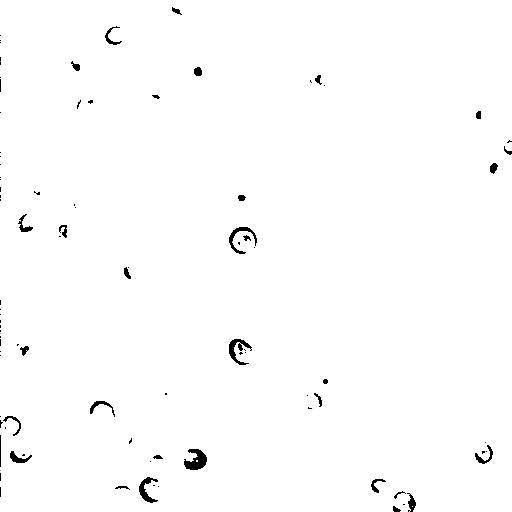micro-algae: (359, 3, 447, 89), (342, 436, 417, 510), (45, 91, 117, 165), (39, 113, 99, 175), (29, 333, 86, 395), (12, 89, 69, 147), (192, 384, 249, 442), (43, 415, 100, 469), (464, 43, 512, 98), (152, 344, 201, 395), (200, 349, 249, 394), (33, 0, 106, 29), (124, 390, 167, 431), (207, 15, 243, 50), (74, 93, 108, 129), (153, 382, 189, 416), (1, 479, 38, 512), (307, 60, 343, 92), (478, 148, 510, 184), (228, 225, 258, 256), (228, 337, 256, 367), (88, 399, 117, 427), (139, 477, 167, 505), (166, 0, 200, 23), (62, 55, 91, 81), (207, 0, 249, 17), (24, 178, 50, 204), (180, 448, 208, 472), (123, 253, 147, 280), (8, 439, 33, 464), (16, 209, 40, 235), (391, 490, 419, 512), (188, 59, 213, 83), (466, 101, 491, 125), (12, 338, 34, 365), (220, 445, 247, 467), (68, 192, 92, 216), (473, 441, 496, 465), (104, 25, 130, 46), (52, 223, 79, 243), (266, 93, 289, 116), (2, 414, 23, 437), (114, 429, 135, 452), (370, 477, 392, 496), (496, 321, 512, 347), (315, 364, 333, 386), (304, 392, 325, 410), (111, 486, 134, 501), (435, 66, 451, 86), (235, 191, 250, 206), (502, 138, 512, 156)
